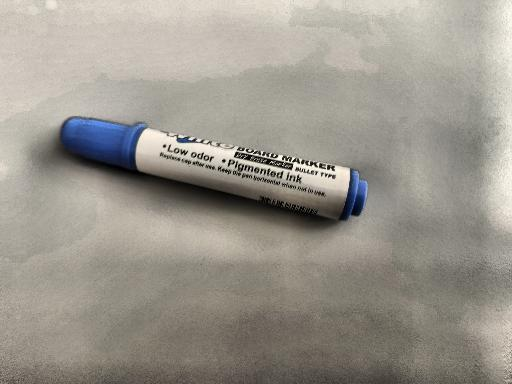marcador azul: (61, 118, 367, 220)
